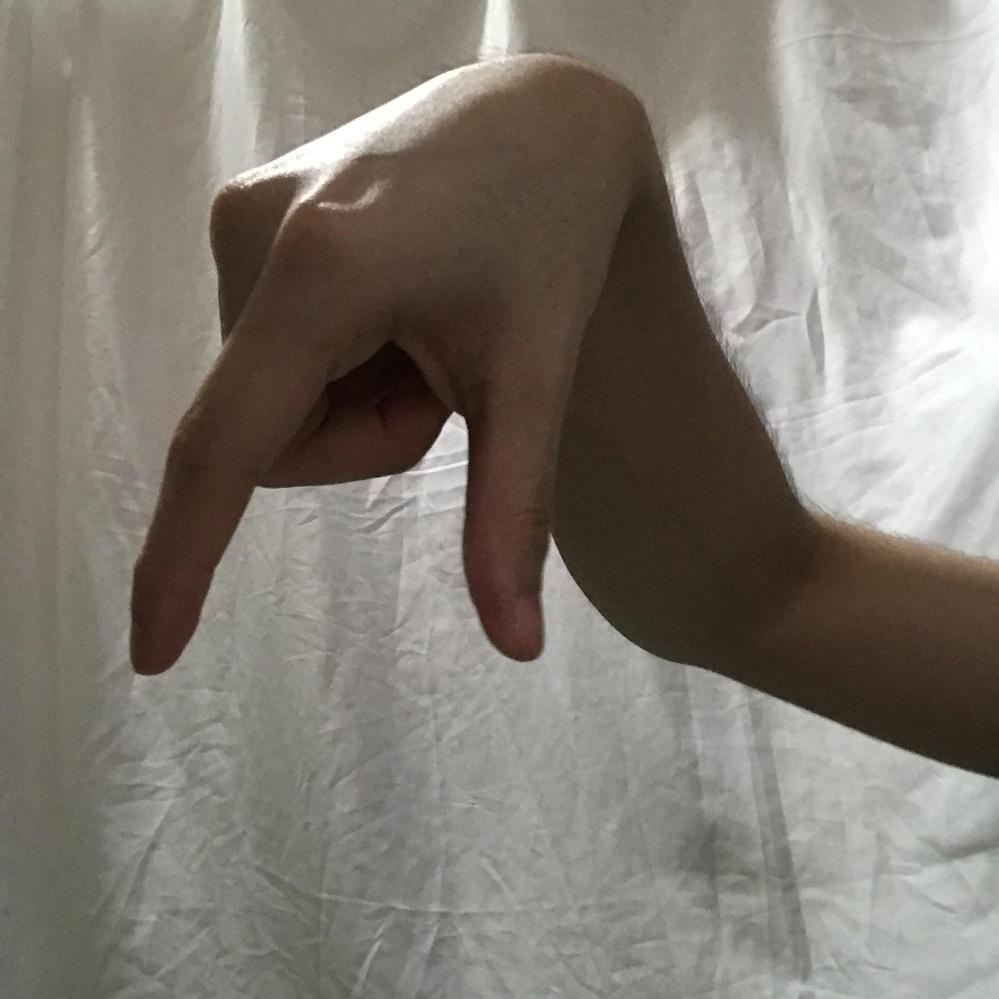q: (124, 54, 631, 676)
